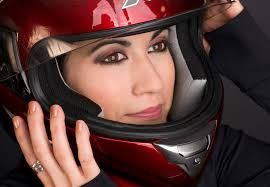com_capacete: (1, 1, 237, 186)
